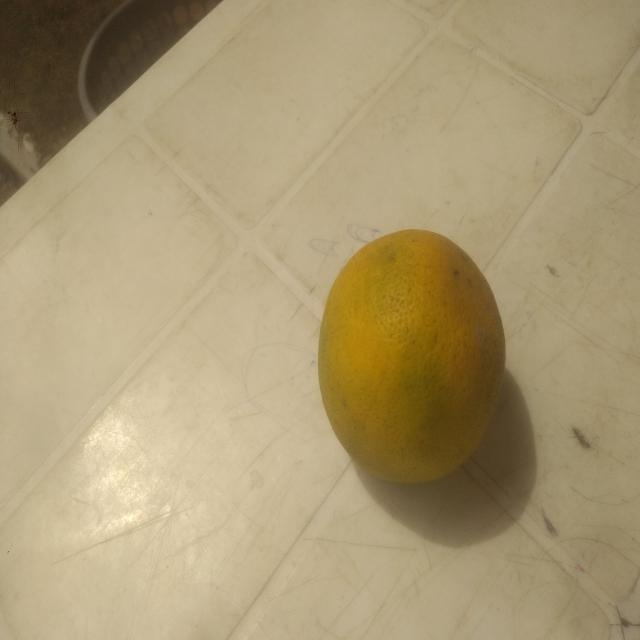agrume: (304, 220, 528, 503)
